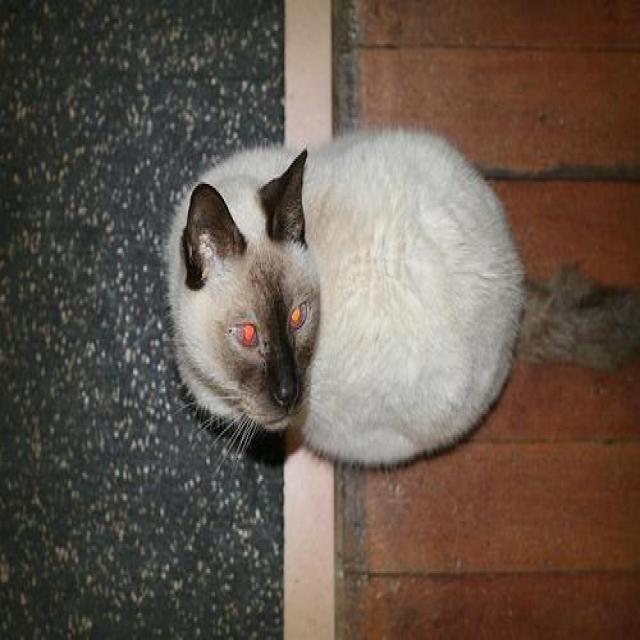cat: (162, 128, 640, 469)
